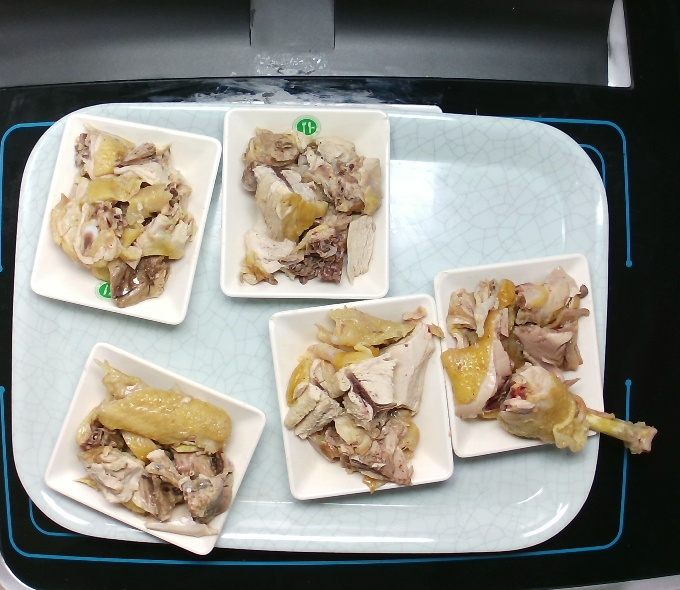wcq-BaiQieJi: (434, 259, 659, 463), (63, 349, 243, 543), (281, 298, 447, 499), (46, 119, 199, 313), (234, 120, 388, 289)
